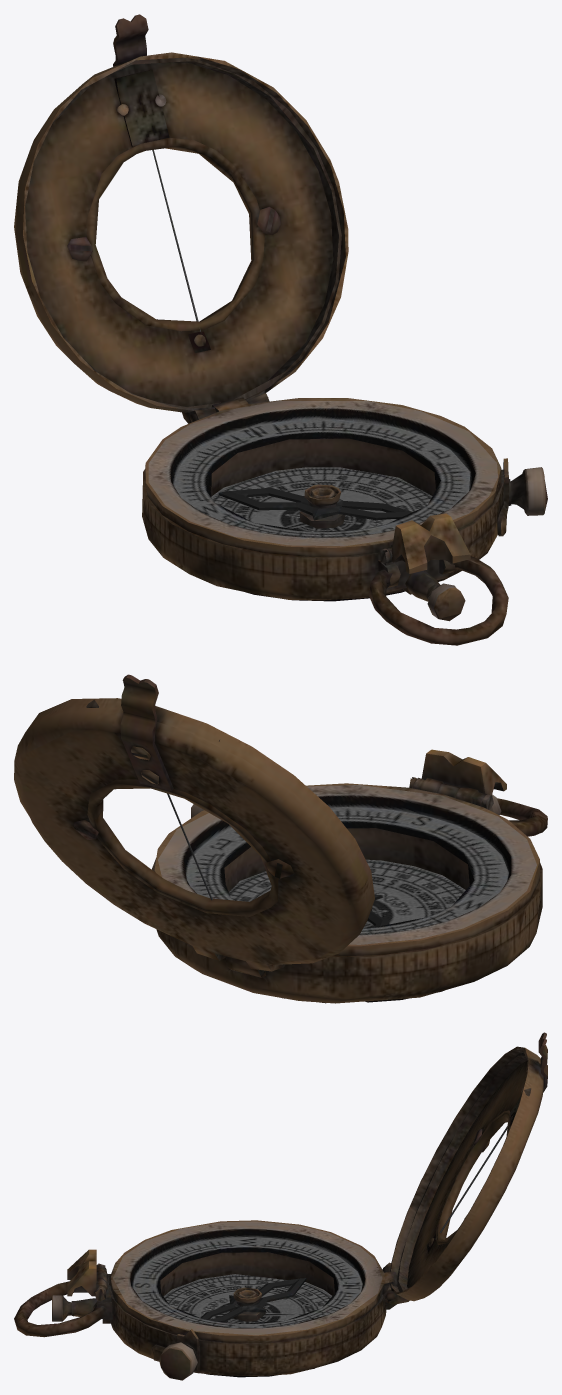
The model's file is seadogs_compass.glb.
The picture shows the model from 3 angles, top to bottom: view 1: azimuth 30°, elevation 25°; view 2: azimuth 150°, elevation 25°; view 3: azimuth 270°, elevation 25°; orthographic projection. The views are drawn at different scales.
Parts seen in each view (by area): view 1: seadogs_compass; view 2: seadogs_compass; view 3: seadogs_compass.
Boxes of the visible parts, bbox=[...] form: seadogs_compass: bbox=[14, 14, 547, 645]; seadogs_compass: bbox=[14, 674, 547, 1003]; seadogs_compass: bbox=[14, 1032, 547, 1380].
Bounding box in the file's own units: 0.0811 × 0.0866 × 0.1439.
1 material, 1 textured.
